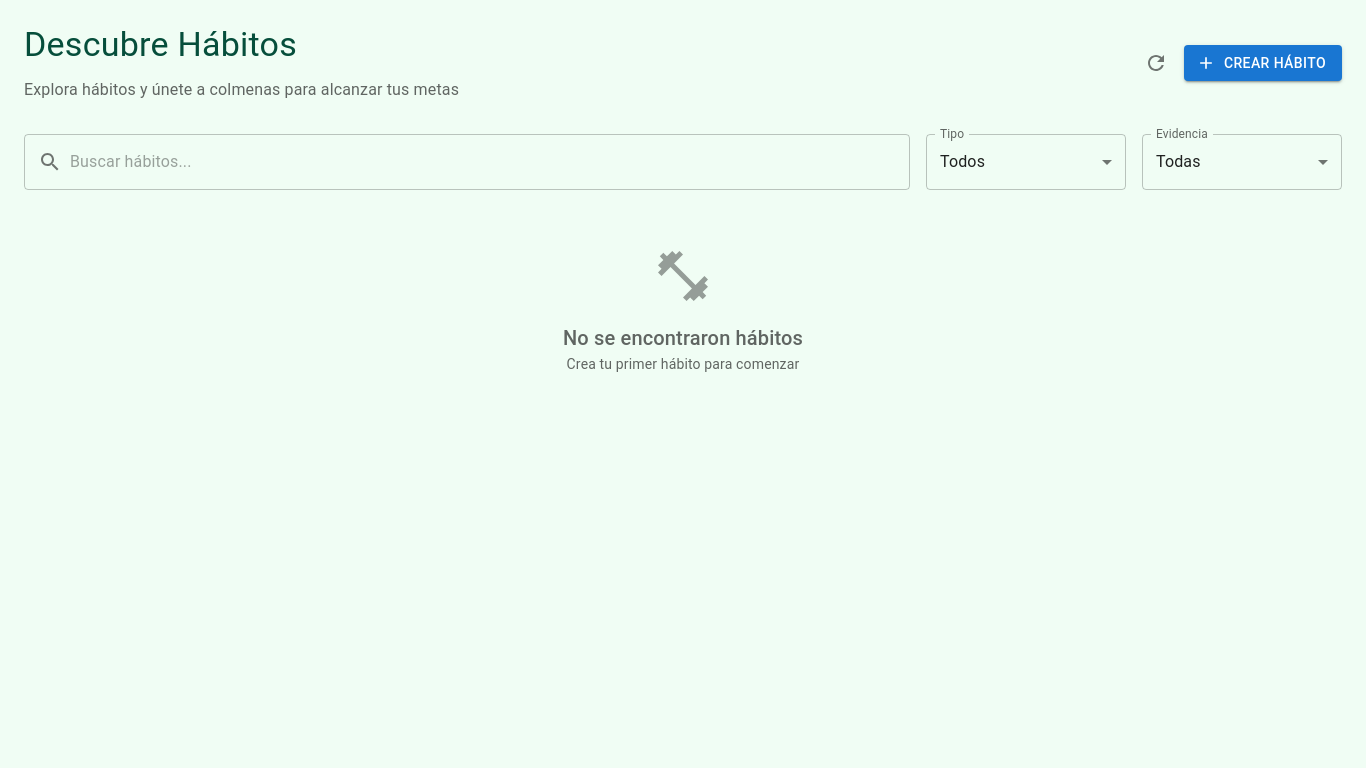
Test: HabitsPage › Create Habit › should show success message after creation
Click the button "Crear Hábito" at (1263, 63), box x1=1184 y1=45 x2=1342 y2=81
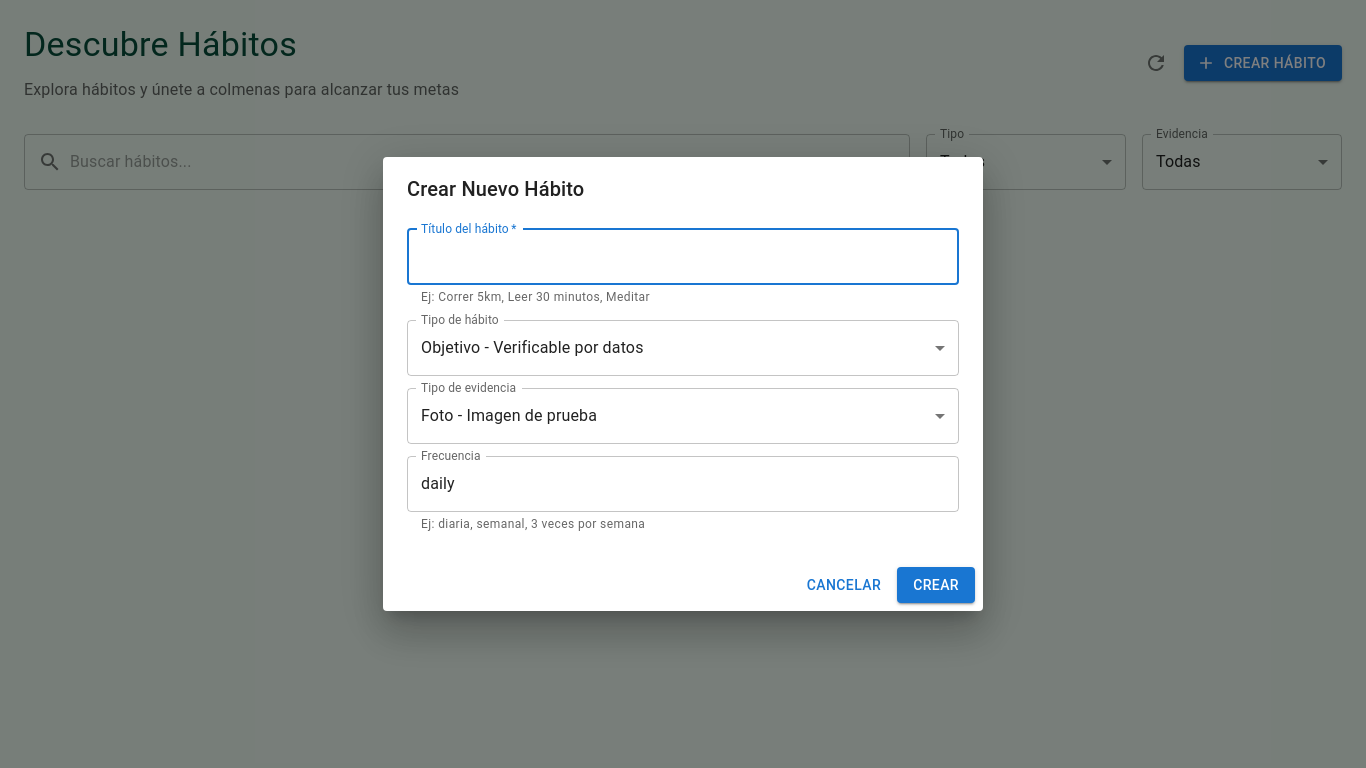
Type "New Habit" into the field labelled "Título del hábito *" at (683, 257), box x1=407 y1=229 x2=959 y2=285
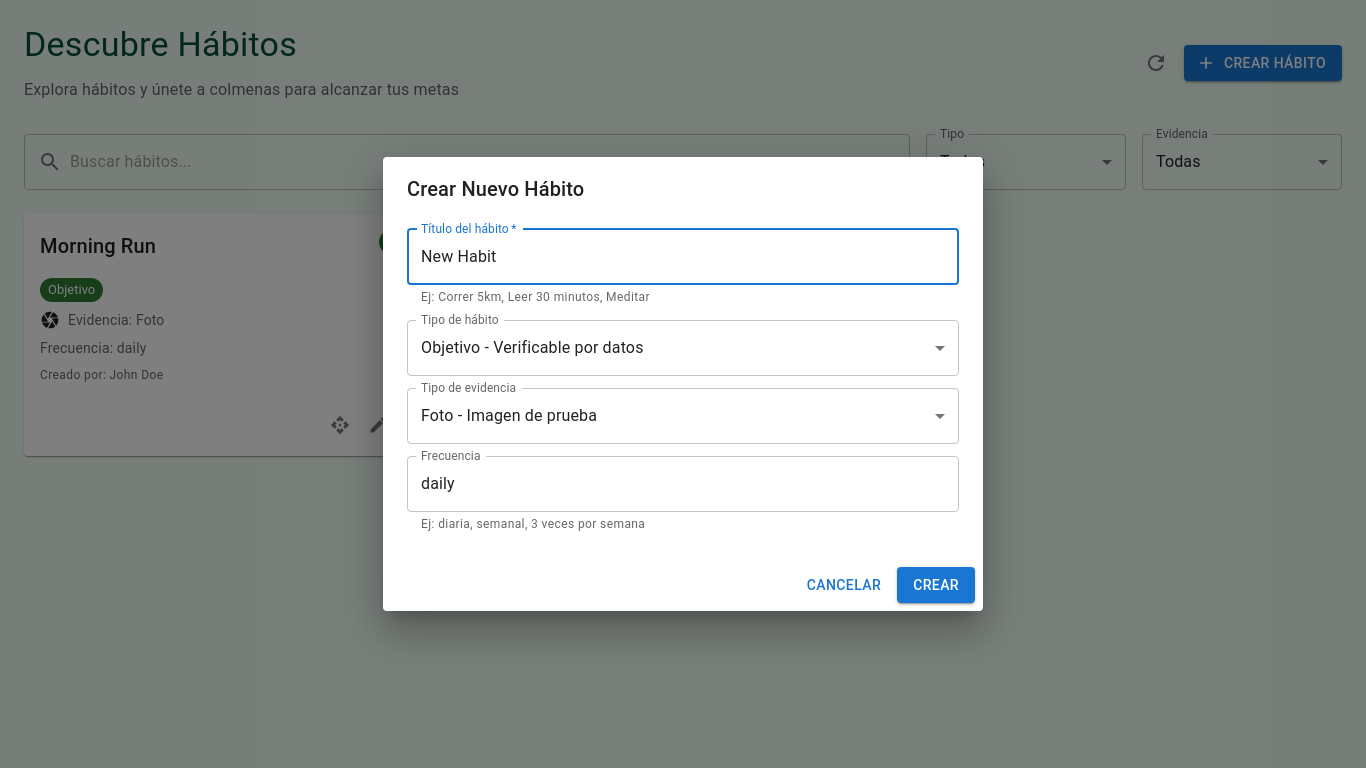
Click the button "Crear" at (936, 585), box x1=897 y1=567 x2=975 y2=603
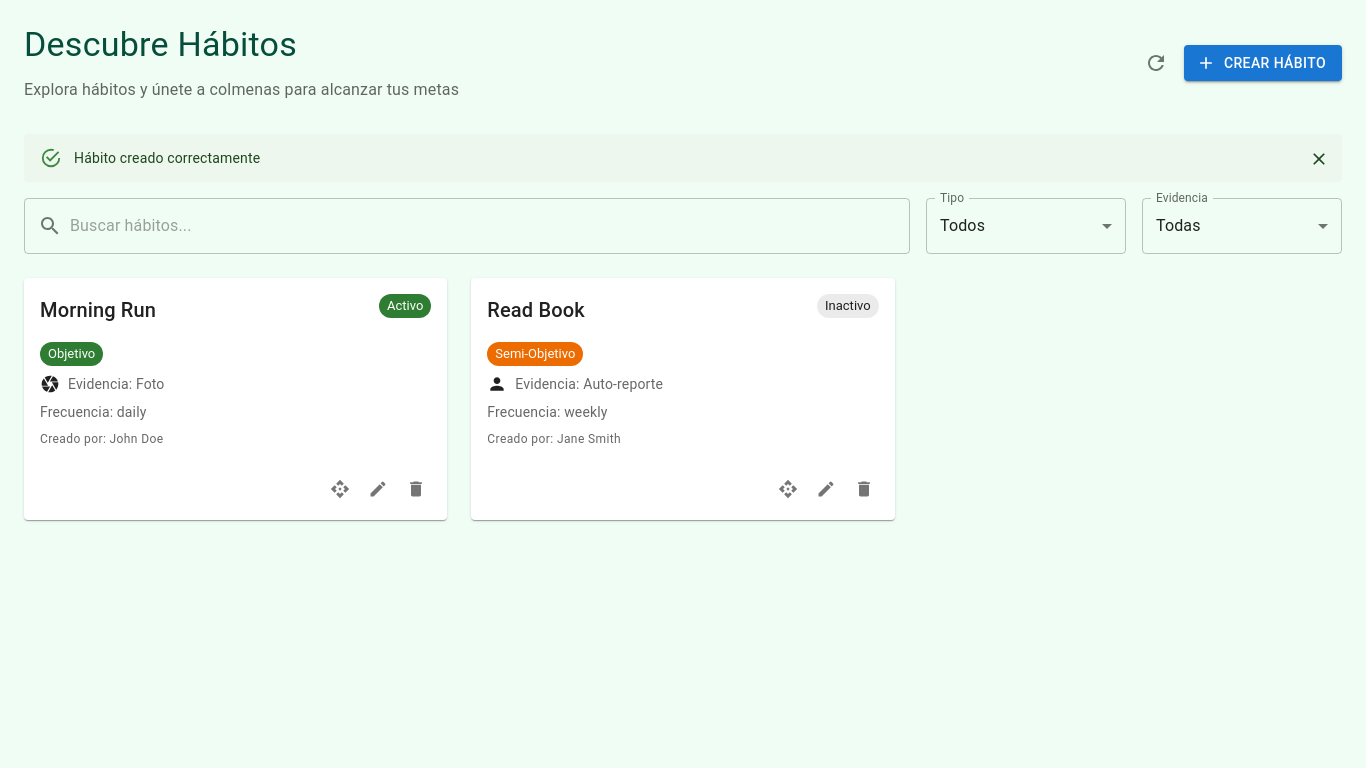
Now the text "Hábito creado correctamente" is shown, box x1=74 y1=150 x2=260 y2=166
